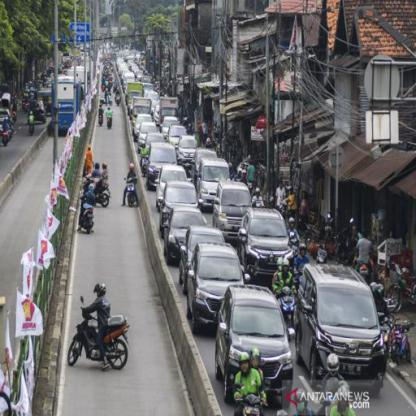bus: (51, 74, 83, 132)
car: (298, 254, 384, 387), (216, 283, 291, 395), (187, 242, 233, 313), (240, 206, 289, 270), (212, 183, 249, 230), (164, 206, 193, 248), (195, 159, 223, 199), (162, 182, 188, 210)
motorbike: (68, 311, 134, 372), (234, 385, 269, 415), (278, 283, 297, 326), (82, 177, 111, 205), (75, 198, 100, 227), (120, 178, 142, 205), (106, 113, 112, 126)
